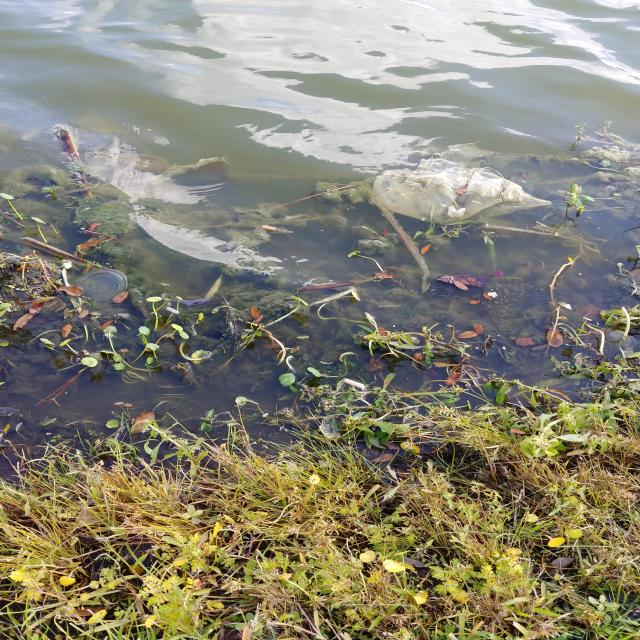litter: (79, 159, 551, 305)
